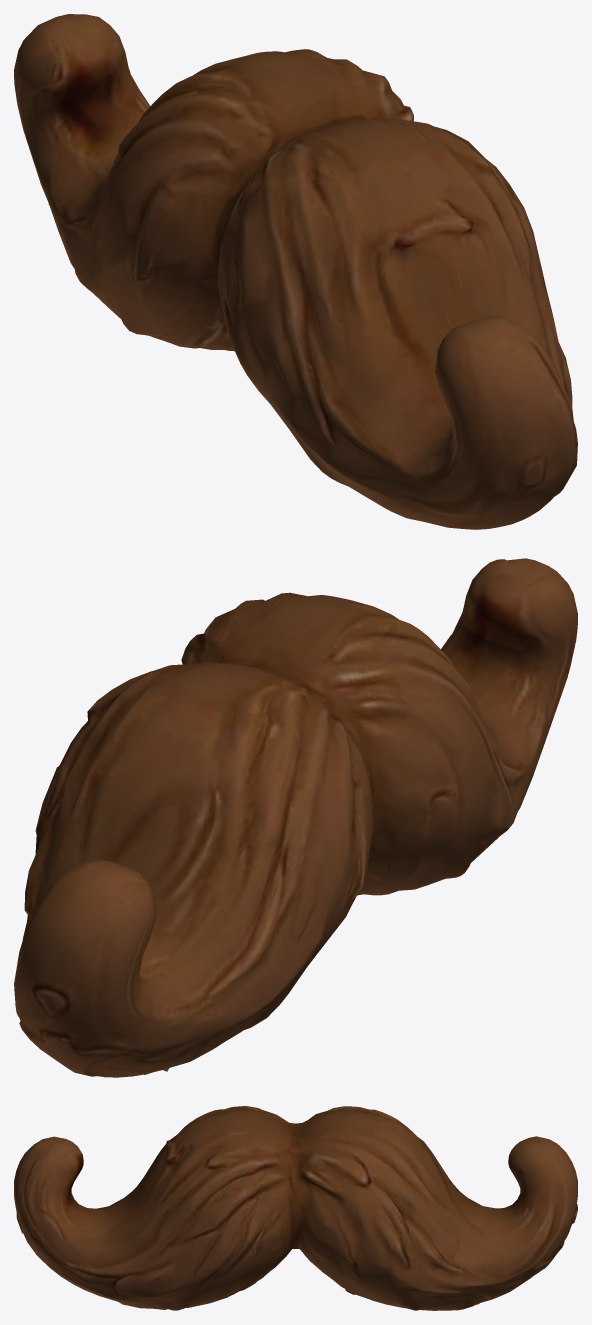
Rendered from mustache.glb.
The picture shows the model from 3 angles, top to bottom: view 1: azimuth 30°, elevation 25°; view 2: azimuth 150°, elevation 25°; view 3: azimuth 270°, elevation 25°; orthographic projection. The views are drawn at different scales.
Parts seen in each view (by area): view 1: tripo_node_e7174834-f58e-4707-b171-df09ba4615db; view 2: tripo_node_e7174834-f58e-4707-b171-df09ba4615db; view 3: tripo_node_e7174834-f58e-4707-b171-df09ba4615db.
Boxes of the visible parts, bbox=[...] form: tripo_node_e7174834-f58e-4707-b171-df09ba4615db: bbox=[14, 14, 577, 529]; tripo_node_e7174834-f58e-4707-b171-df09ba4615db: bbox=[14, 558, 577, 1077]; tripo_node_e7174834-f58e-4707-b171-df09ba4615db: bbox=[14, 1106, 577, 1310].
Size of the model in its own units: 0.3455 by 0.3581 by 1.
Materials: 1 (1 with a texture image).
